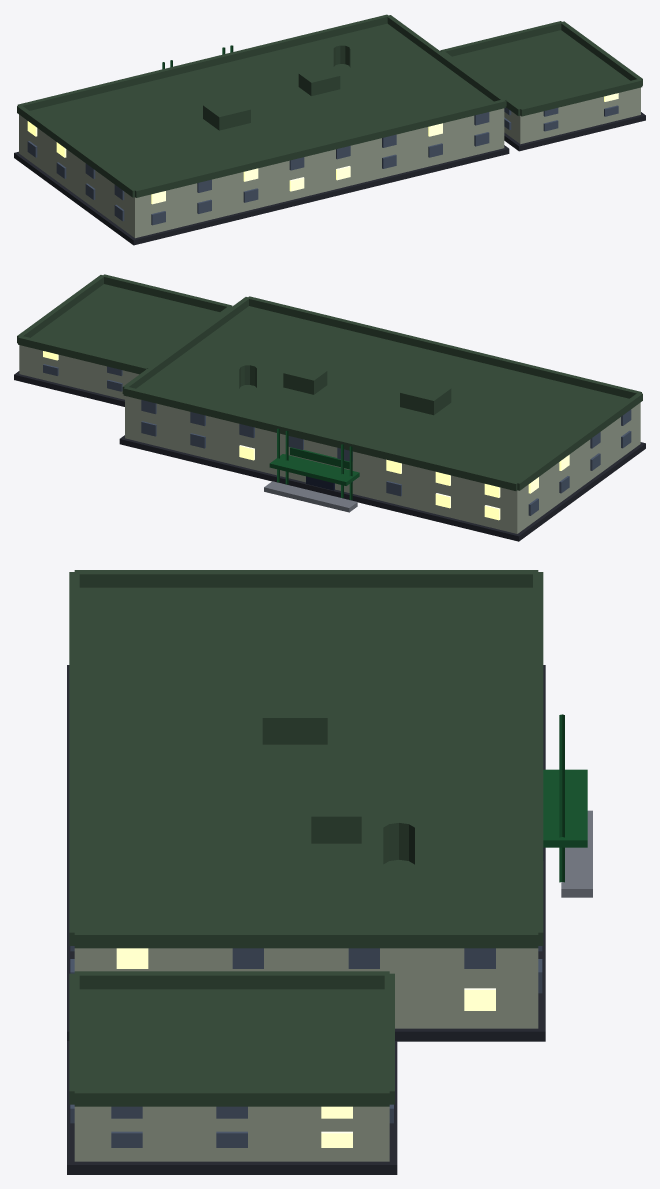
Rendered from sports-high.glb.
The picture shows the model from 3 angles, top to bottom: view 1: azimuth 30°, elevation 25°; view 2: azimuth 150°, elevation 25°; view 3: azimuth 270°, elevation 25°; orthographic projection. The views are drawn at different scales.
Bounding box in the file's own units: 128 × 15.4 × 56.7.
